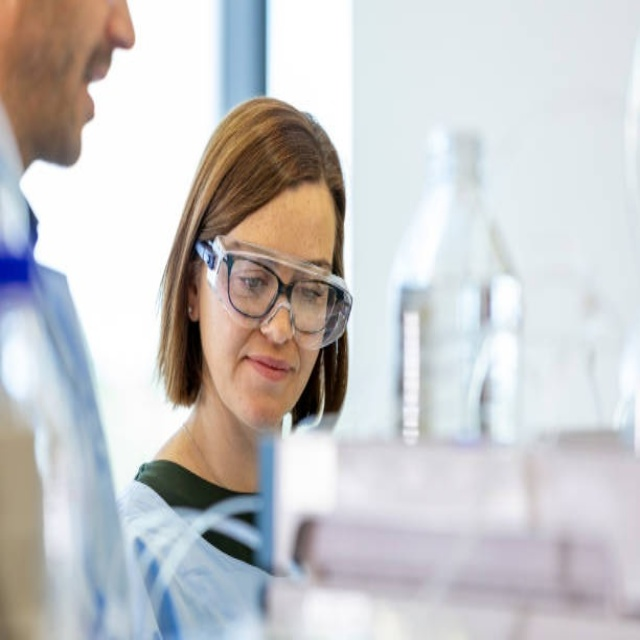Gafas: (196, 236, 353, 348)
Sin_mascara: (47, 35, 116, 165), (235, 345, 296, 405)
